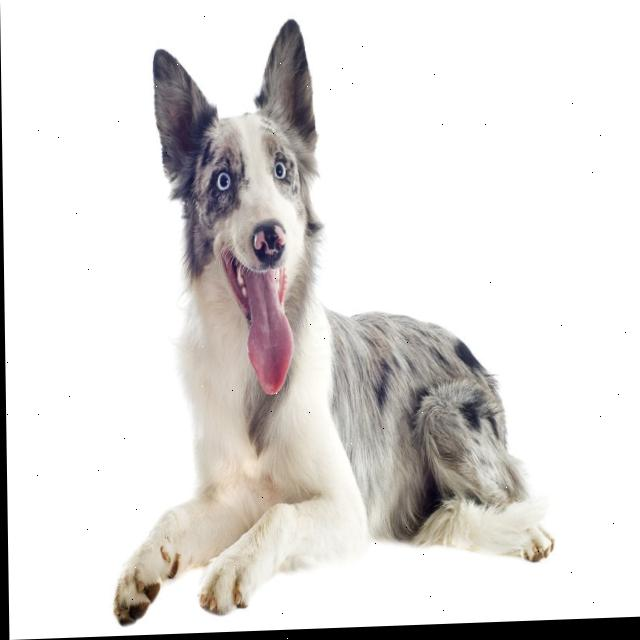BORDER_COLLIE: (99, 7, 558, 637)
